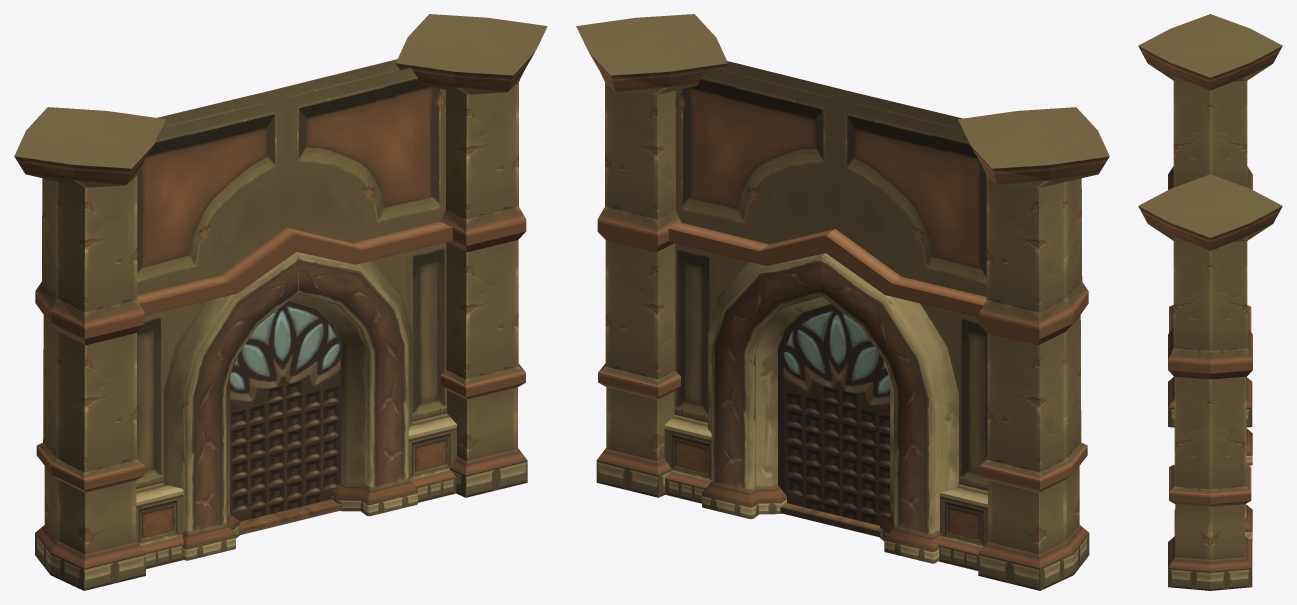
File: wall big door2.FBX
The picture shows the model from 3 angles, left to right: view 1: azimuth 30°, elevation 25°; view 2: azimuth 150°, elevation 25°; view 3: azimuth 270°, elevation 25°; orthographic projection. The views are drawn at different scales.
Parts seen in each view (by area): view 1: wall big door2; view 2: wall big door2; view 3: wall big door2.
Part boxes in pixels (x1,y1,x2,y2): wall big door2: [14, 14, 547, 590]; wall big door2: [576, 14, 1109, 590]; wall big door2: [1138, 14, 1282, 590].
Bounding box in the file's own units: 1237 × 947 × 338.
